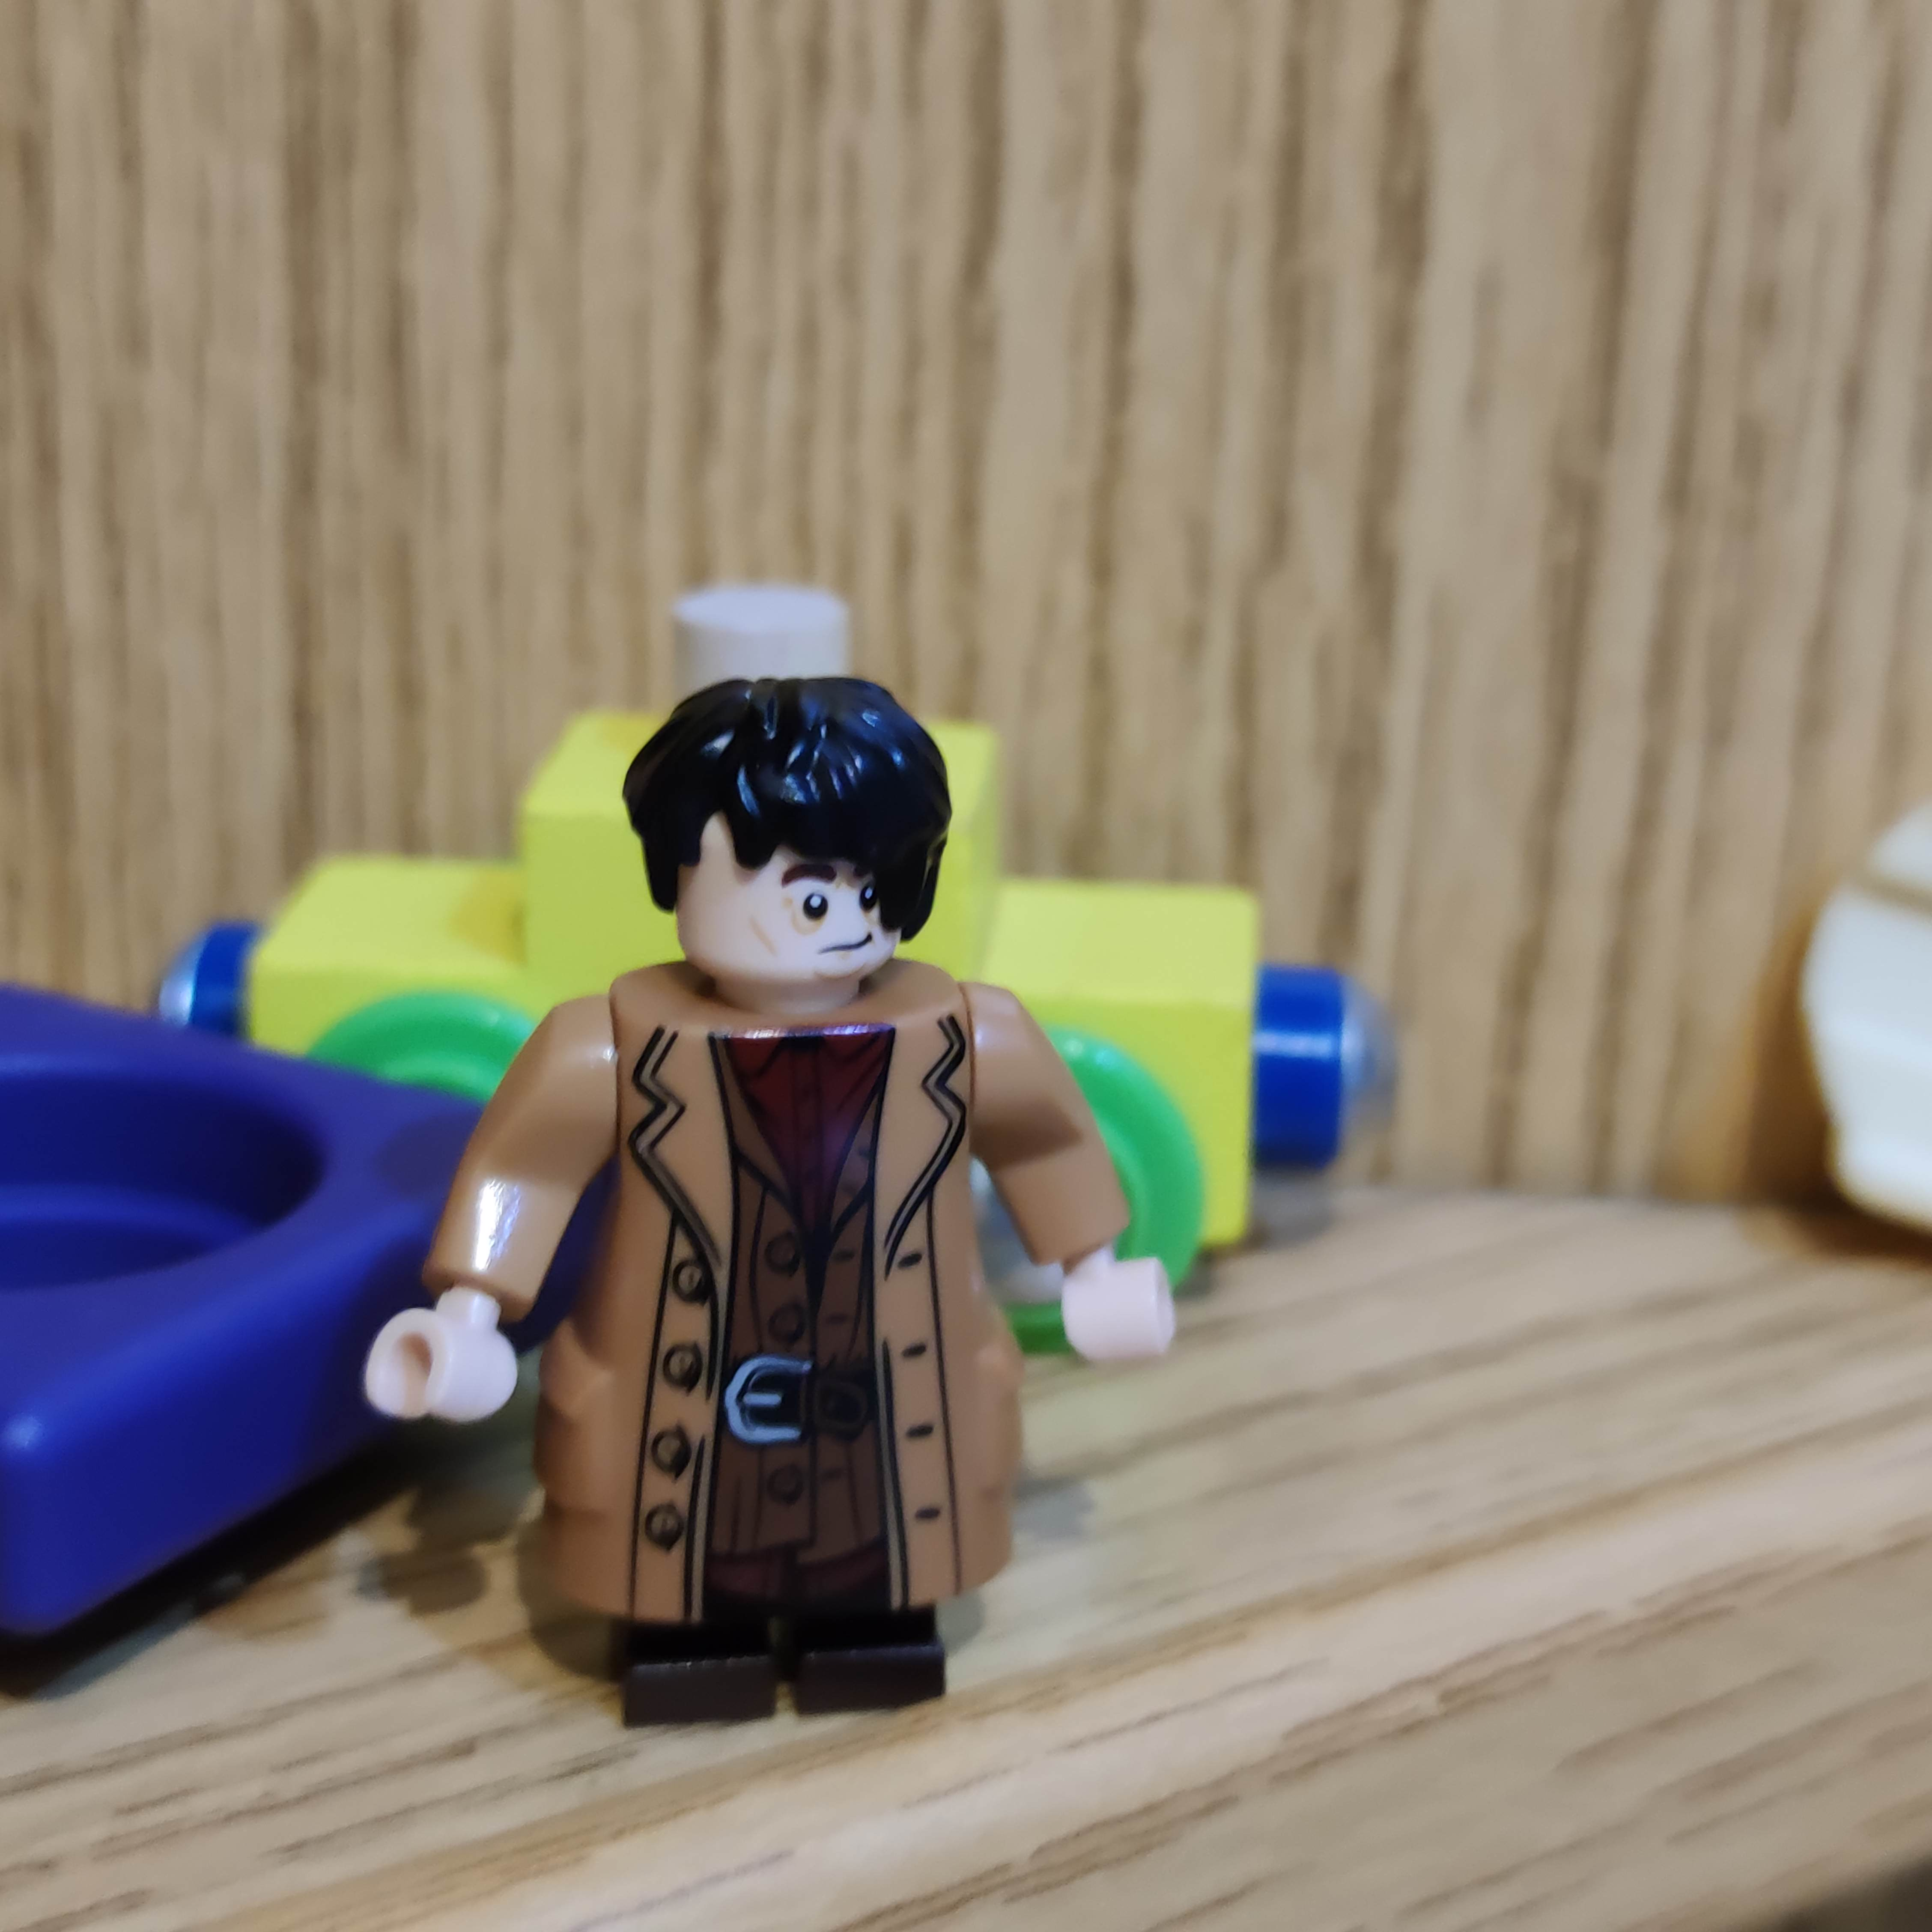lego: (366, 679, 1191, 1736)
